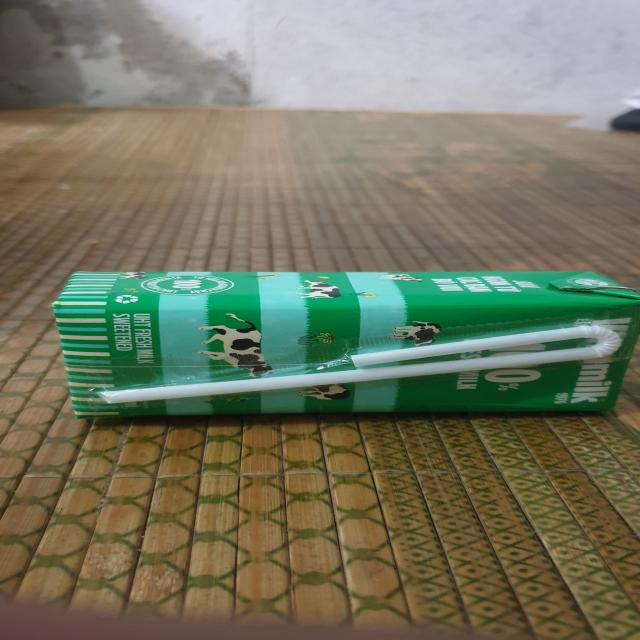Vina: (47, 266, 640, 422)
